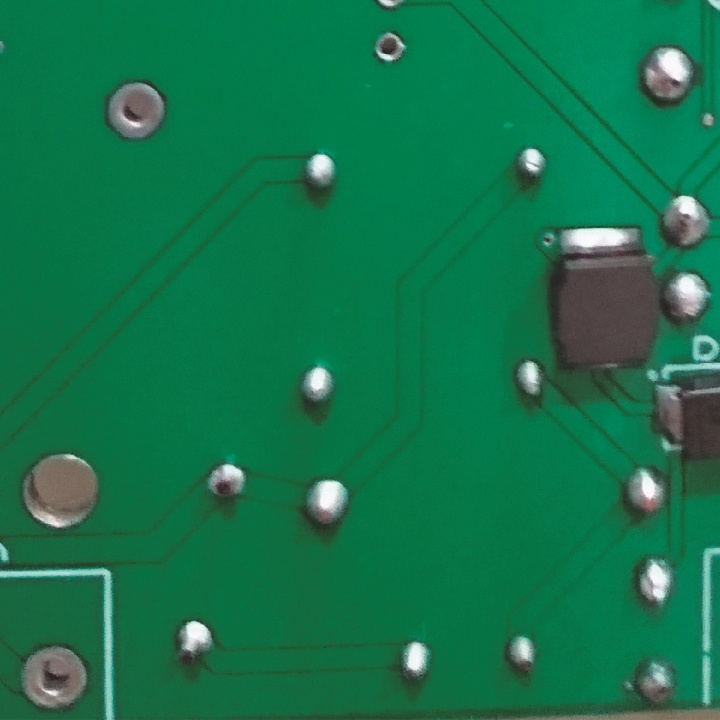F: (19, 643, 91, 709), (100, 78, 168, 140), (370, 29, 405, 67)
